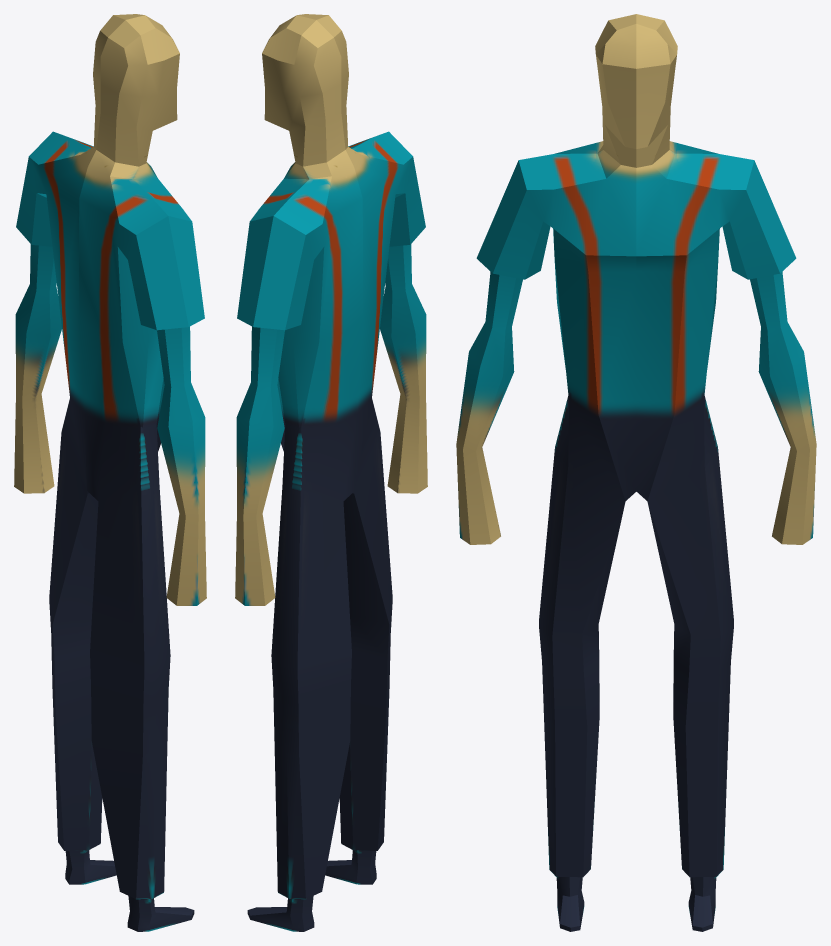
The model's file is barman_i0.glb.
3 renders of one model, left to right at view 1: azimuth 30°, elevation 25°; view 2: azimuth 150°, elevation 25°; view 3: azimuth 270°, elevation 25°, orthographic. The views are drawn at different scales.
Parts seen in each view (by area): view 1: Cube; view 2: Cube; view 3: Cube.
Part boxes in pixels (box(x1,y1,x2,y2)): Cube: box(14, 14, 206, 931); Cube: box(235, 14, 427, 931); Cube: box(456, 14, 816, 931).
Bounding box in the file's own units: 0.2411 × 1.96 × 0.711.
Materials: 1 (1 with a texture image).
